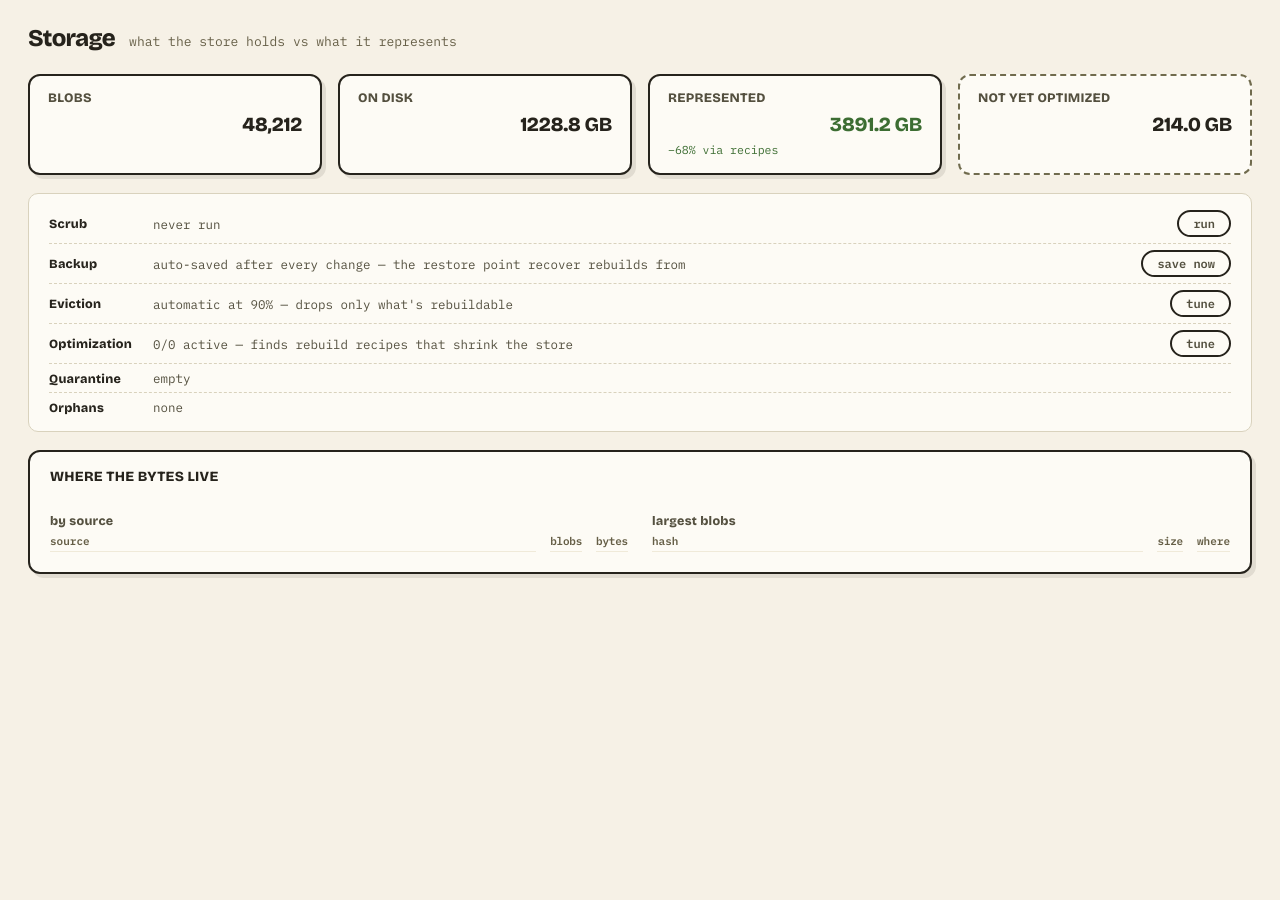
Scenario: manual reclaim previews the plan, then confirms the drop
Expected: the text "BLOBS" is shown, [48,90,92,106]
Click the button "tune" in the row of "Eviction".
click(1201, 304)  # box [1170,290,1231,317]
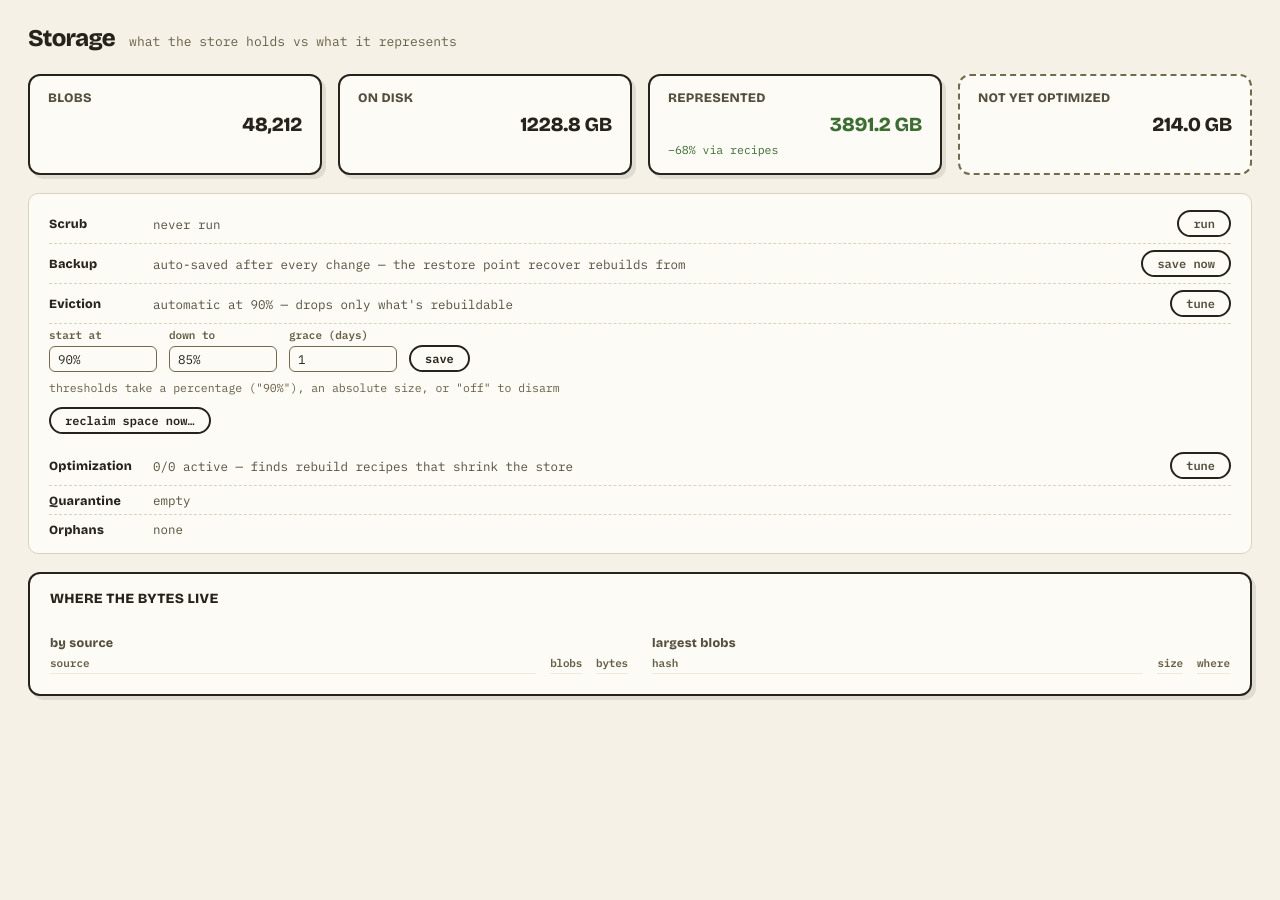
Click the button "reclaim space now…".
click(130, 420)  # box [49,407,211,434]
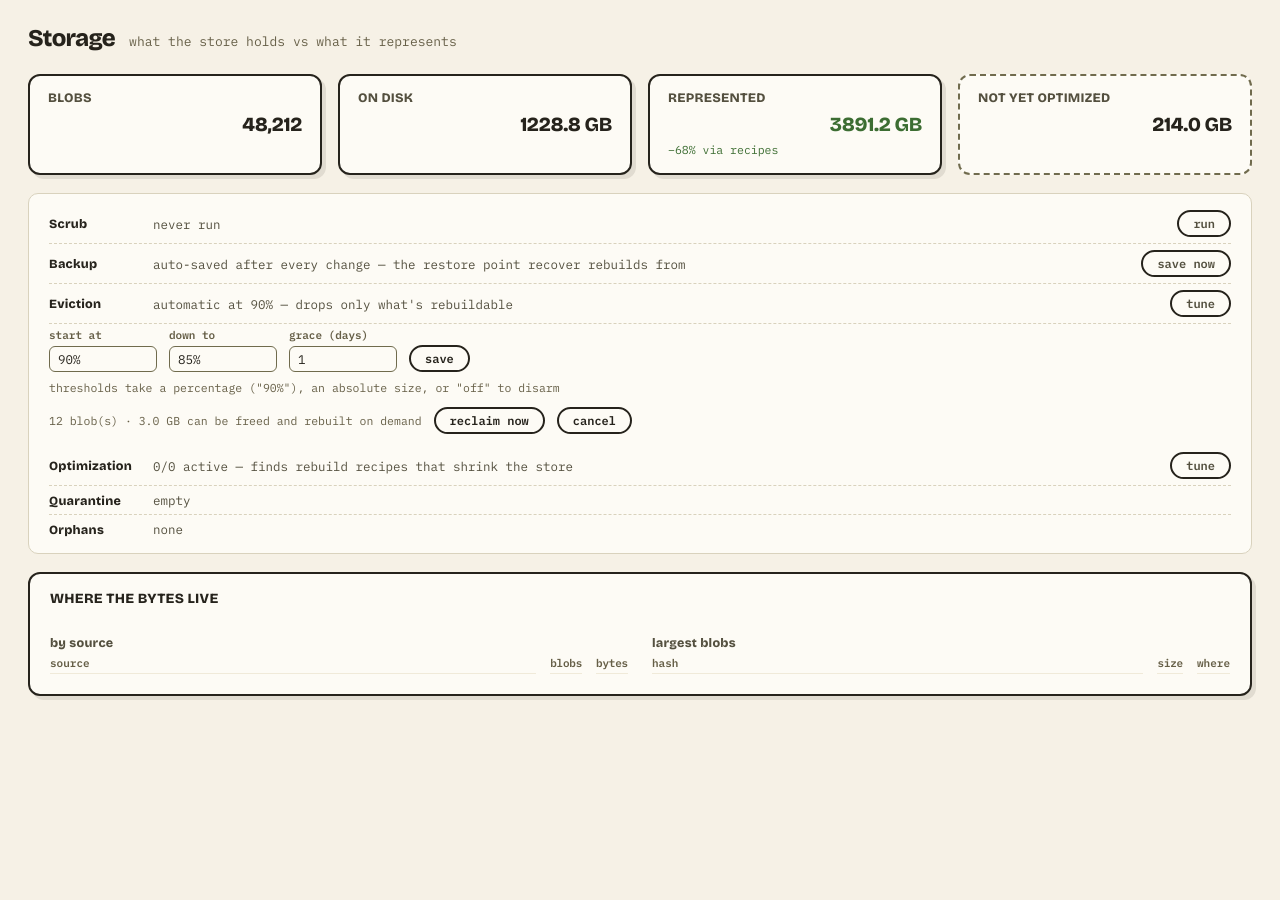
Expected: the text "12 blob(s) · 3.0 GB can be freed and rebuilt on demand" is shown, [49,413,422,428]
Click the button "reclaim now".
click(489, 420)  # box [434,407,545,434]
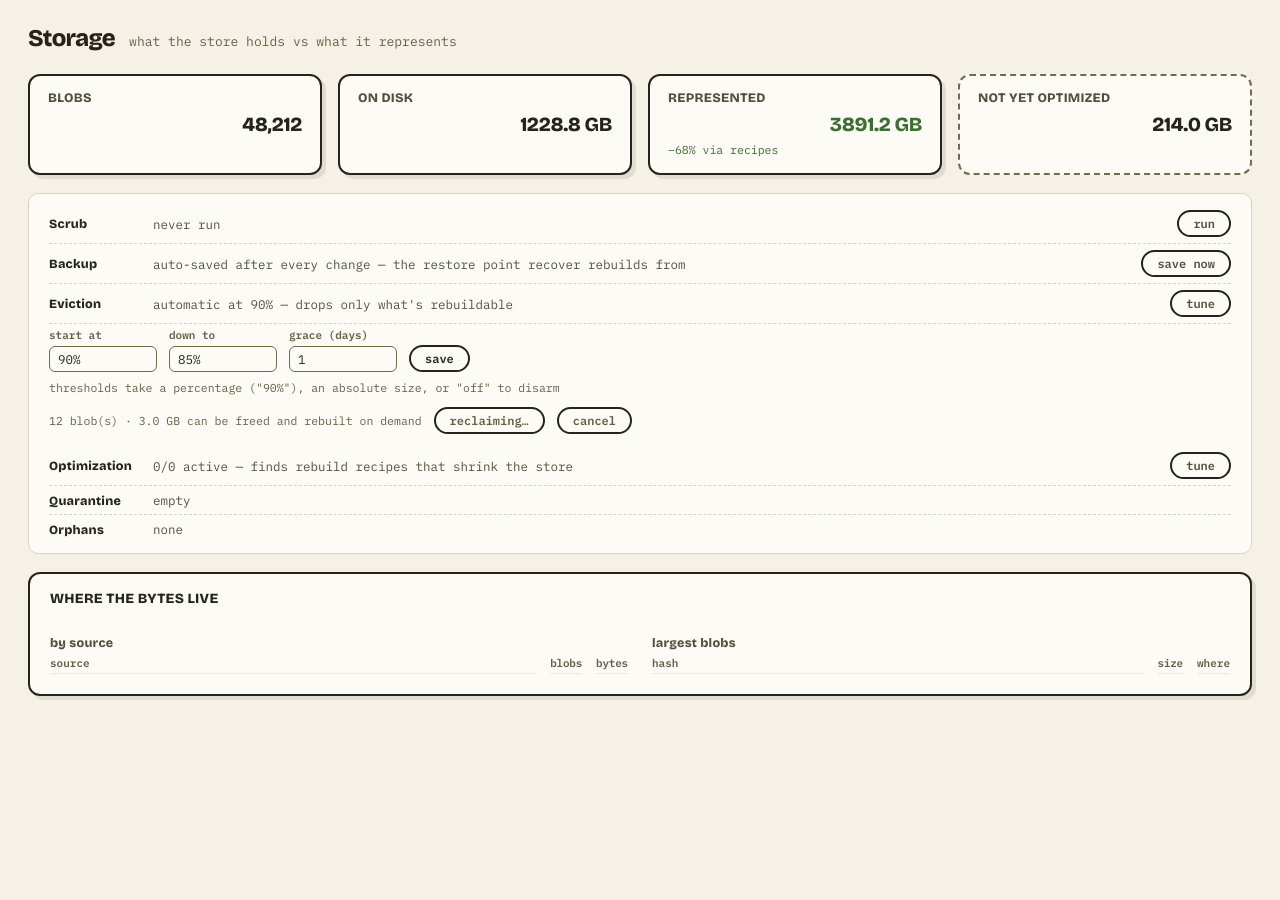
Expected: the button "reclaiming…" is shown, [434,407,545,434]
